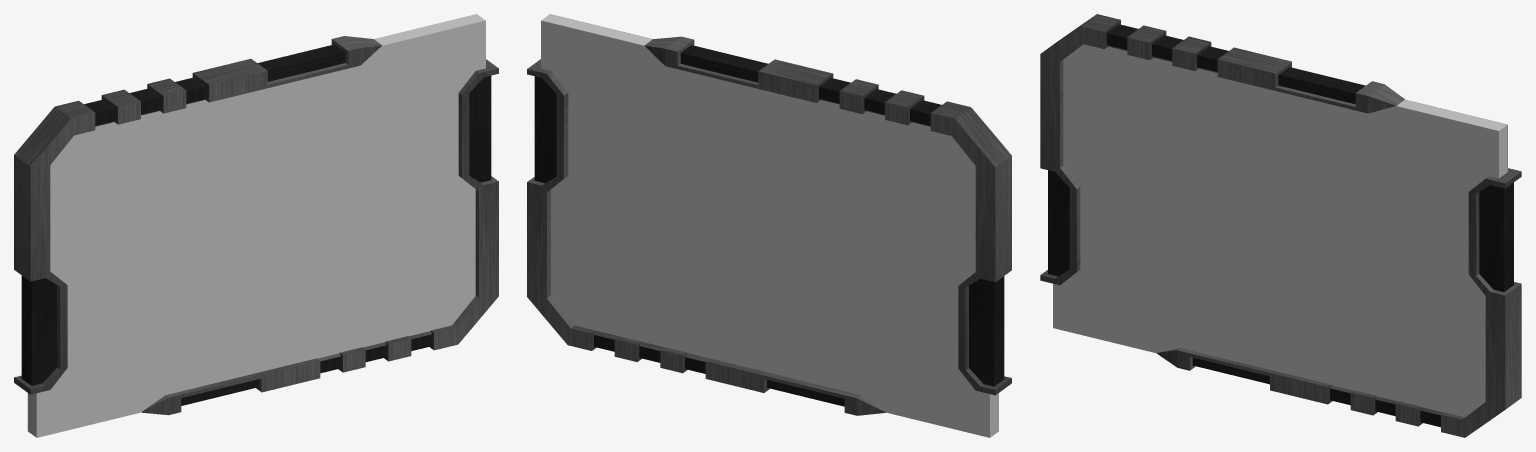
File: FlagModel_01.dae
The picture shows the model from 3 angles, left to right: view 1: azimuth 30°, elevation 25°; view 2: azimuth 150°, elevation 25°; view 3: azimuth 330°, elevation 25°; orthographic projection.
Parts seen in each view (by area): view 1: Front, Frame, Green; view 2: Back, Frame, Green; view 3: Front, Frame, Green.
Boxes of the visible parts, box(x1,y1,x2,y2) form: Front: box(37, 20, 485, 437); Frame: box(14, 36, 498, 415); Green: box(28, 14, 485, 437); Back: box(541, 20, 989, 437); Frame: box(527, 36, 1011, 415); Green: box(541, 14, 998, 437); Front: box(1053, 44, 1498, 417); Frame: box(1040, 14, 1521, 437); Green: box(1396, 99, 1507, 178).
Size of the model in its own units: 2.65 by 1.74 by 0.1617.
